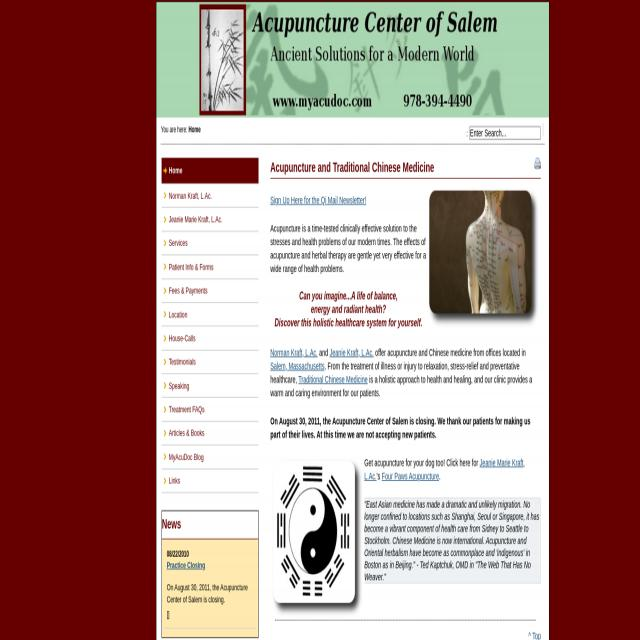button: (429, 188, 531, 314), (162, 158, 259, 184), (160, 230, 258, 253), (160, 254, 258, 277), (160, 278, 258, 301), (160, 325, 258, 348), (160, 372, 258, 395), (160, 396, 258, 419), (160, 420, 258, 443), (160, 183, 258, 205), (160, 207, 258, 229), (160, 302, 258, 324), (160, 349, 258, 371), (160, 444, 258, 466), (160, 468, 258, 490), (534, 156, 540, 168)
field: (469, 125, 542, 140)
